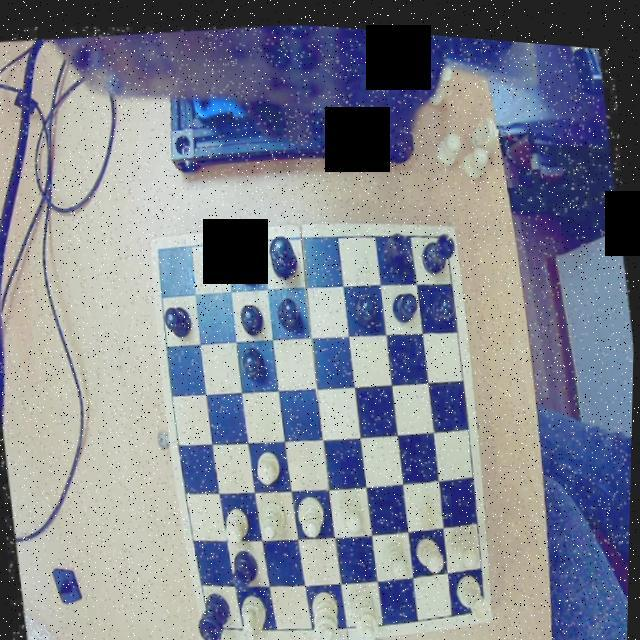chess-table-corners: (152, 234, 176, 264), (432, 215, 456, 242), (476, 584, 495, 614), (207, 610, 228, 636)
